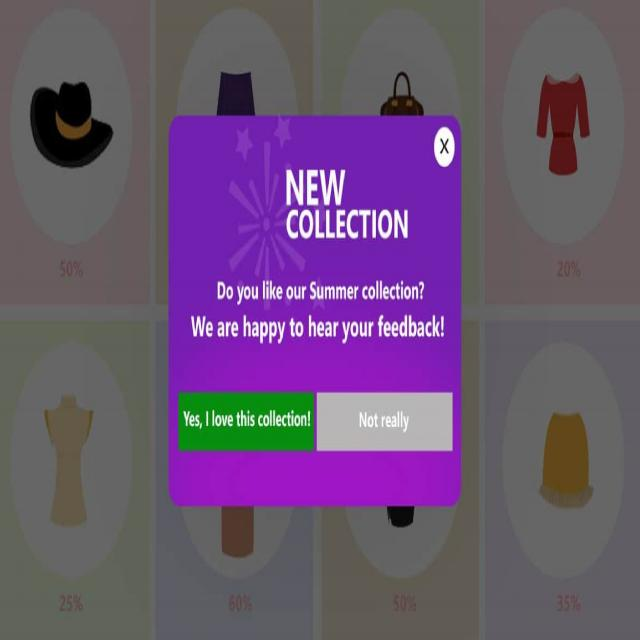sneaking: (169, 386, 459, 462)
